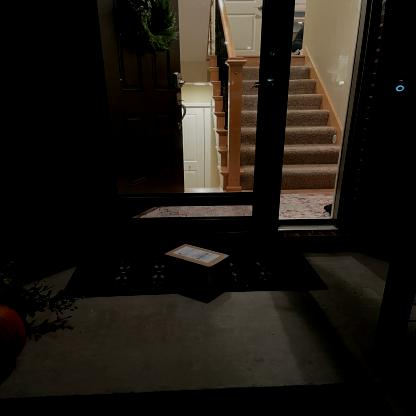box: (164, 239, 234, 288)
